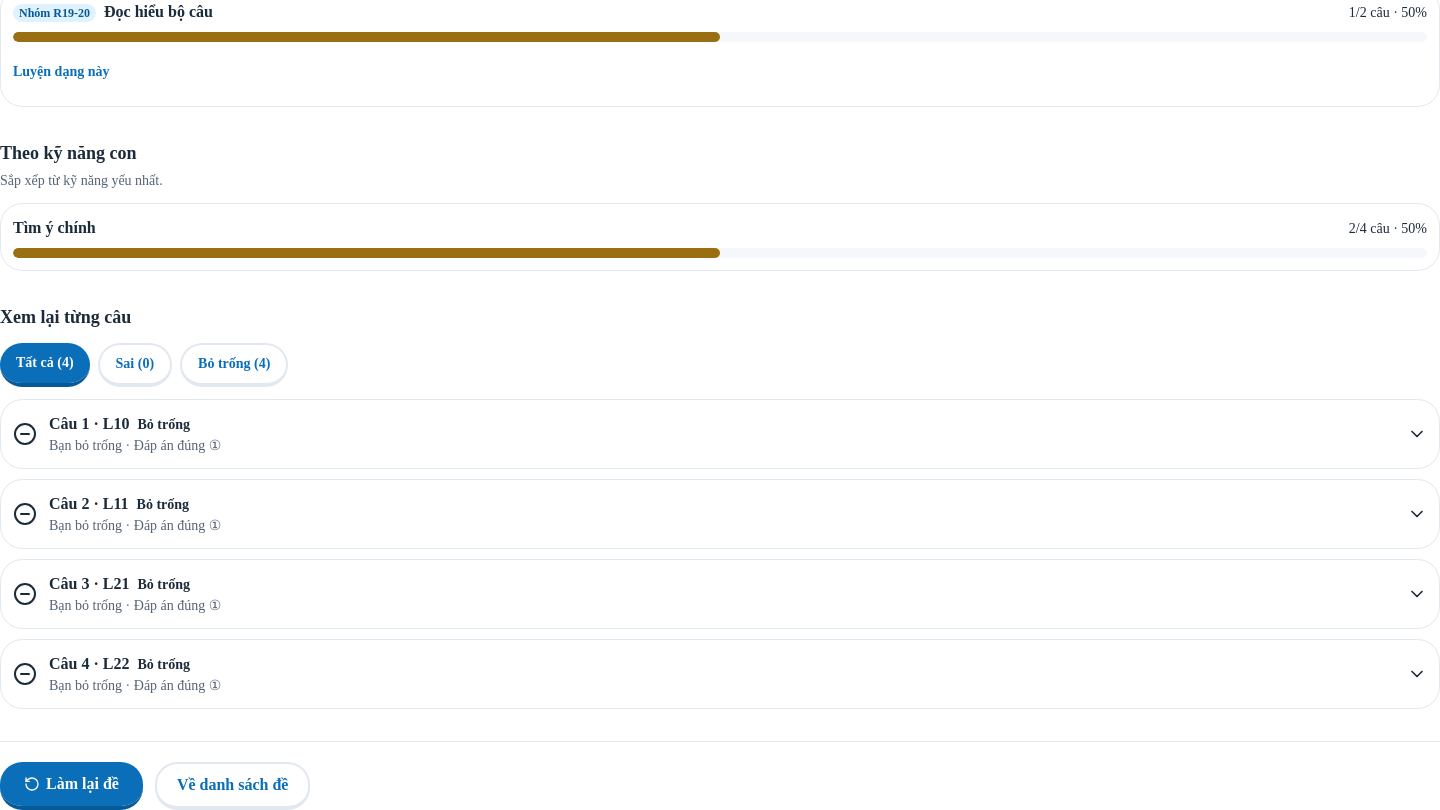
ExamResultView: xem lại câu Nghe › câu không có transcript_vi vẫn hiện lời thoại tiếng Hàn, không có dòng dịch
(page scrolled)
Click the button "Câu 2 · L11Bỏ trống Bạn bỏ trống · Đáp án đúng ①": (89, 504) [1,480,1439,548]
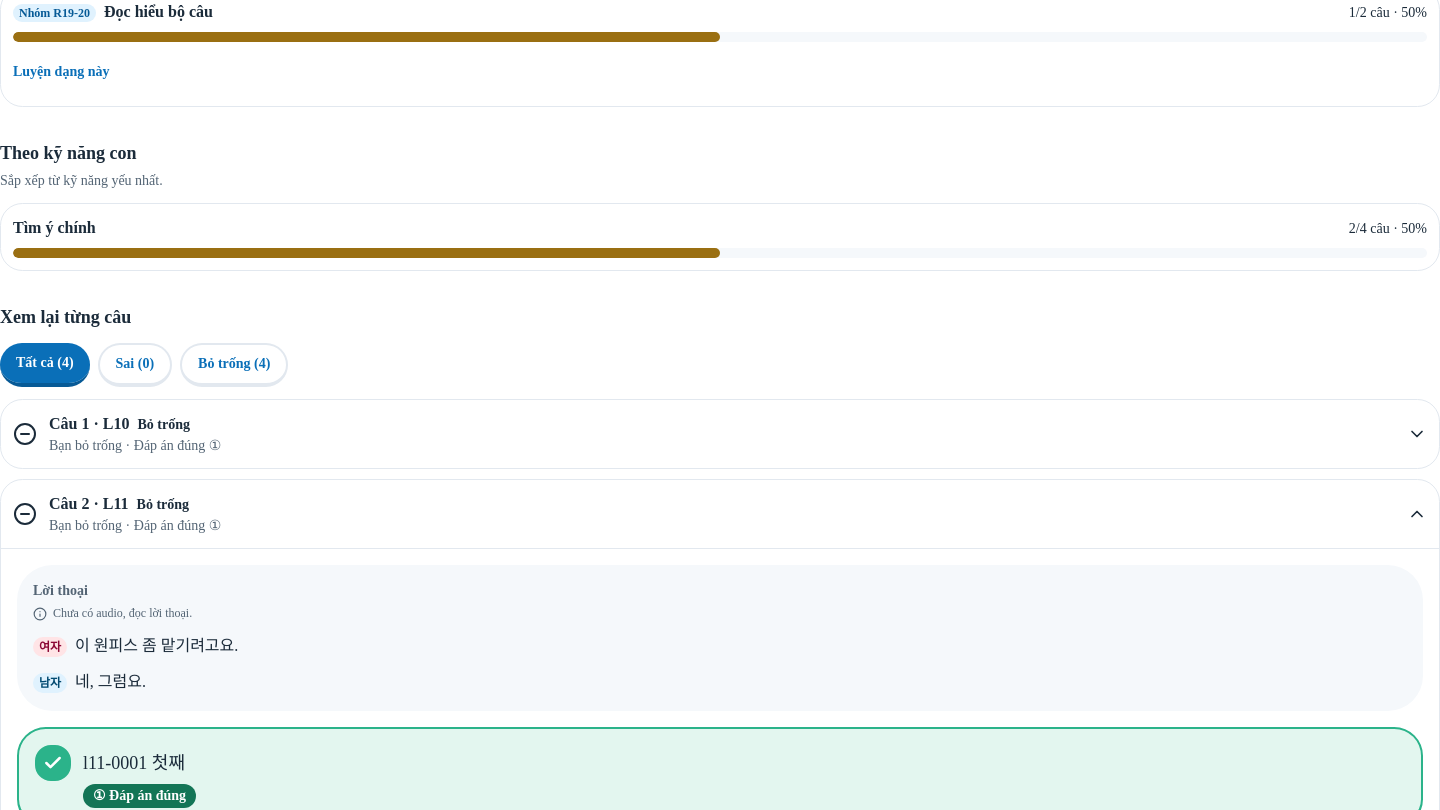
Check: the text "이 원피스 좀 맡기려고요." is shown, box [75,633,238,659]
